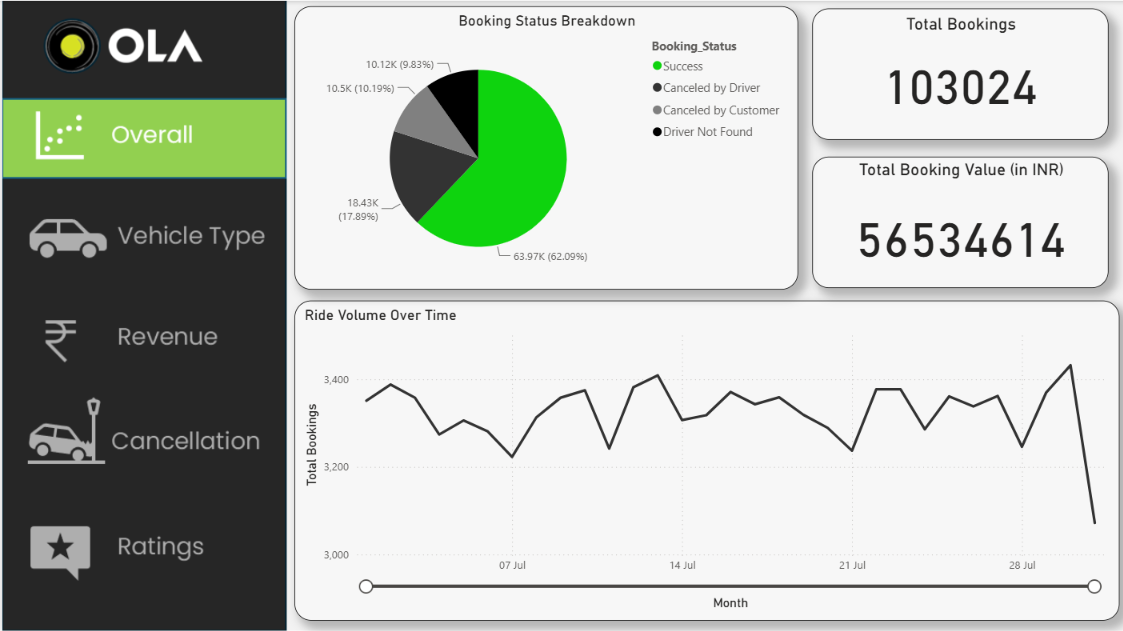

The dashboard page shown, as its layout file describes it:
{"tool":"powerbi","page":{"name":"Overall","canvas":[1280,720],"ordinal":0},"visuals":[{"type":"actionButton","box":[0,224.7,323.2,90.7],"z":0},{"type":"actionButton","box":[0,340,325.2,92.6],"z":1000},{"type":"actionButton","box":[0,449.3,323.2,92.6],"z":2000},{"type":"actionButton","box":[0,580.4,323.2,91.6],"z":3000},{"type":"lineChart","title":"Ride Volume Over Time","fields":{"Y":["CountNonNull(OlaData.Booking_ID)"],"Category":["OlaData.Date.Variation.Date Hierarchy.Year","OlaData.Date.Variation.Date Hierarchy.Quarter","OlaData.Date.Variation.Date Hierarchy.Month","OlaData.Date.Variation.Date Hierarchy.Day"]},"box":[332.9,341.5,940.2,364.6],"z":4000},{"type":"card","title":"Total Booking Value (in INR)","fields":{"Values":["Sum(OlaData.Booking_Value)"]},"box":[922.7,177.3,337.9,150],"z":5000},{"type":"pieChart","title":"Booking Status Breakdown","fields":{"Category":["OlaData.Booking_Status"],"Y":["CountNonNull(OlaData.Booking_Status)"]},"box":[333.3,6.1,574.2,322.7],"z":6000},{"type":"card","title":"Total Bookings","fields":{"Values":["CountNonNull(OlaData.Booking_ID)"]},"box":[922.7,9.1,337.9,150],"z":9000}]}

Visuals, with their boxes in screenshot pixels (x1, y1, x2, y2), scaled from the page's 1280x720 canvas onto the 1123x631 screenshot:
actionButton: box(0, 197, 284, 276)
actionButton: box(0, 298, 285, 379)
actionButton: box(0, 394, 284, 475)
actionButton: box(0, 509, 284, 589)
"Ride Volume Over Time" lineChart: box(292, 299, 1117, 619)
"Total Booking Value (in INR)" card: box(810, 155, 1106, 287)
"Booking Status Breakdown" pieChart: box(292, 5, 796, 288)
"Total Bookings" card: box(810, 8, 1106, 139)
